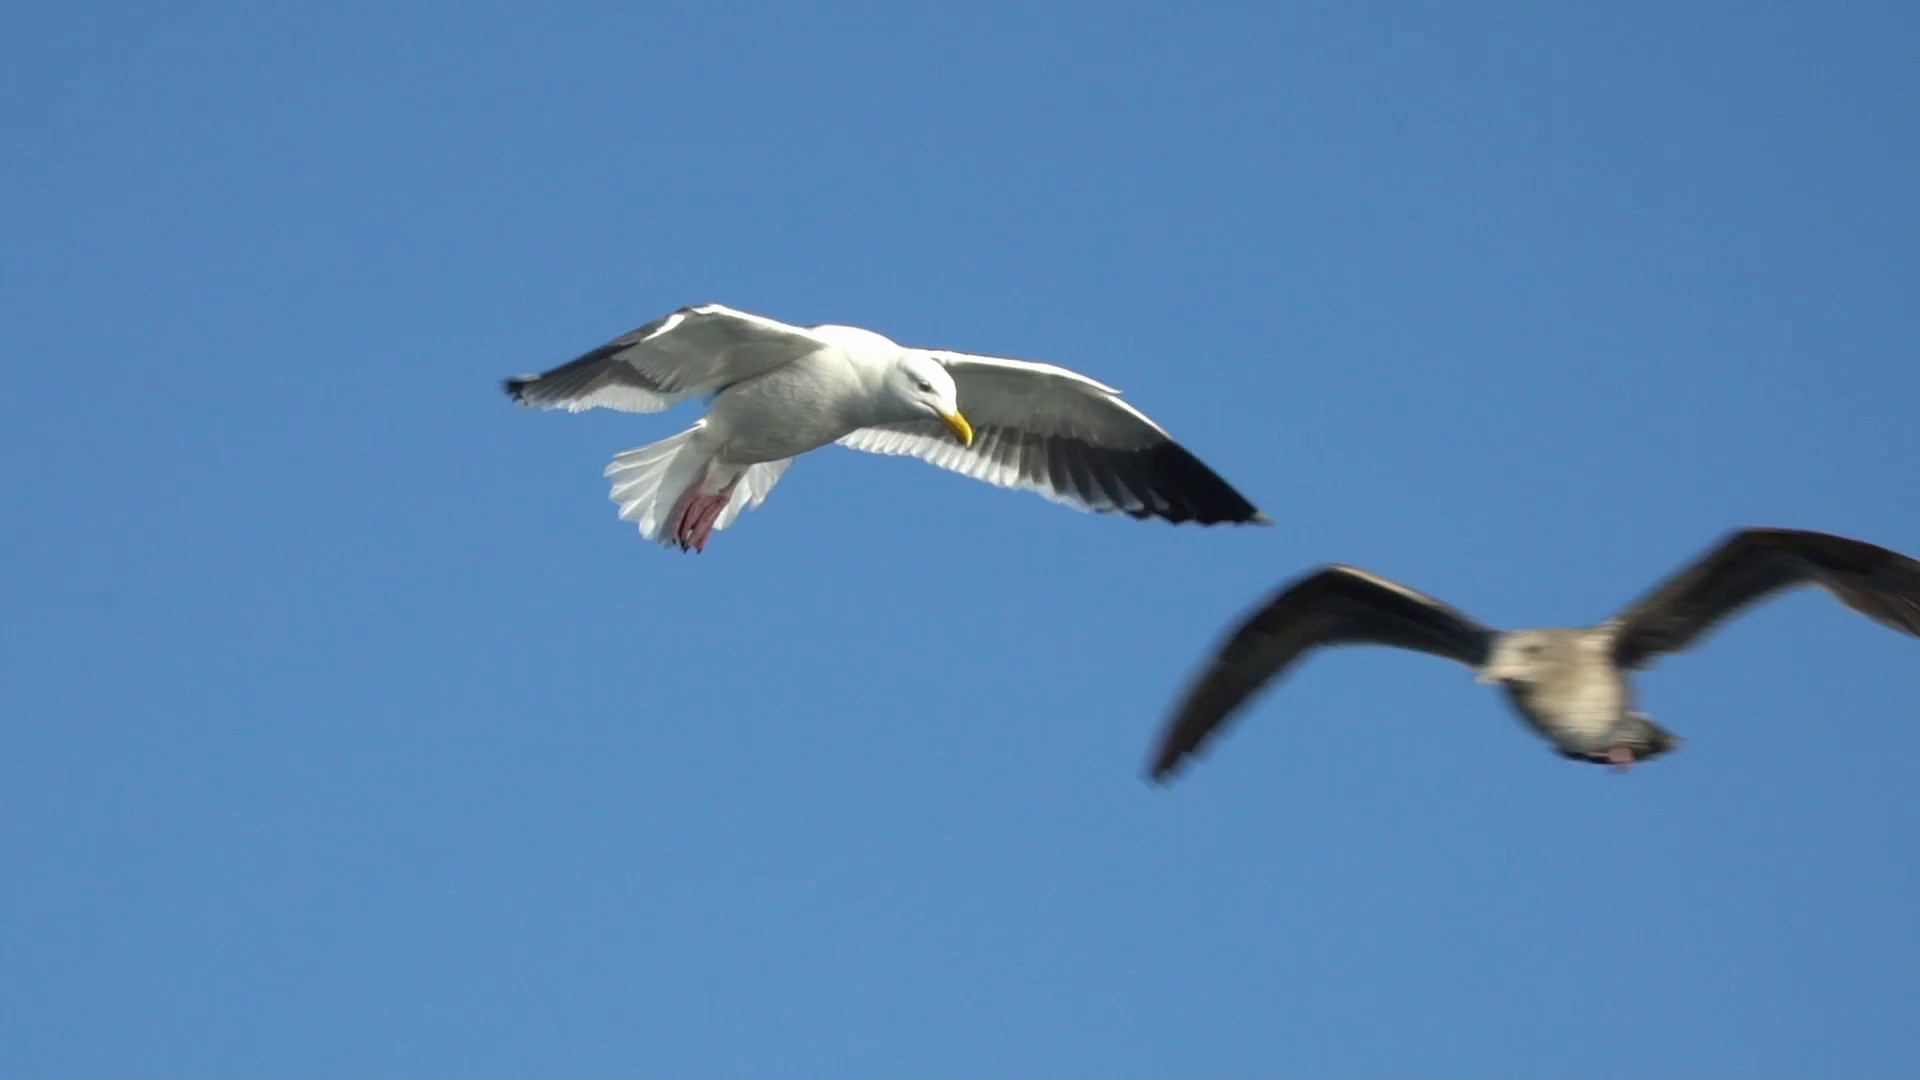bird: (1143, 526, 1919, 785), (502, 299, 1269, 553)
